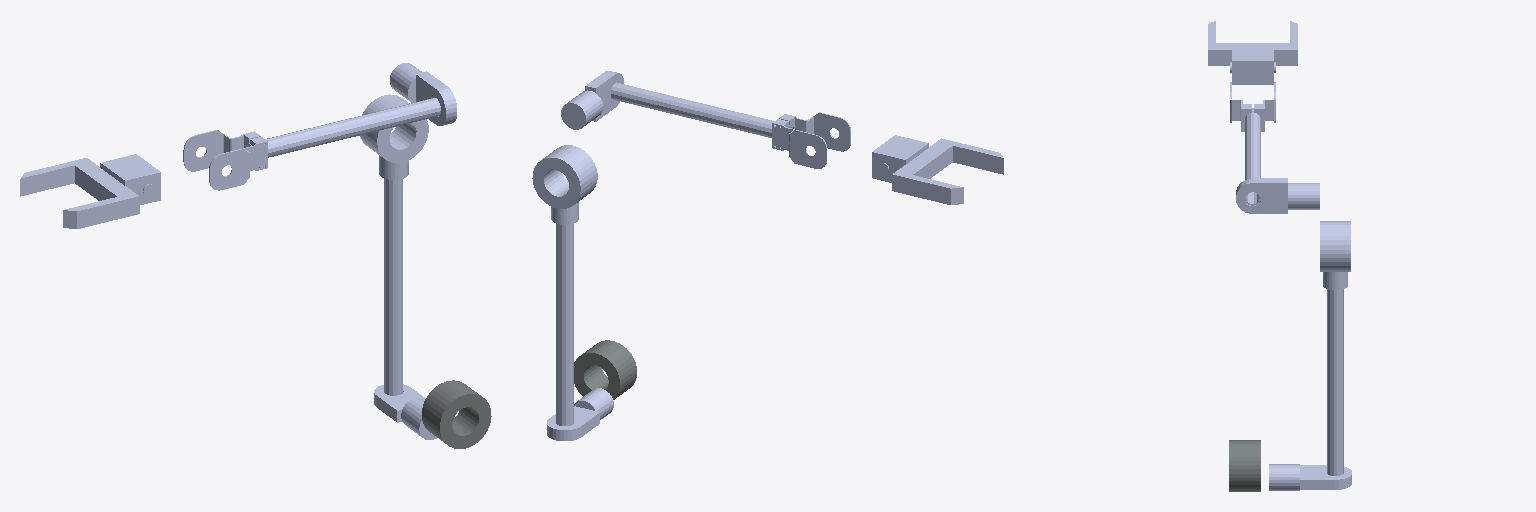
robot.urdf — robot_arm_urdf_complete:
<?xml version="1.0" encoding="utf-8"?>
<!-- This URDF was automatically created by SolidWorks to URDF Exporter! Originally created by [author] ([email redacted]) 
     Commit Version: 1.6.0-4-g7f85cfe  Build Version: 1.6.7995.38578
     For more information, please see http://wiki.ros.org/sw_urdf_exporter -->
<robot 
  name="robot_arm_urdf_complete">
  <link
    name="base_link">
    <inertial>
      <origin
        xyz="2.5327E-16 0.035188 -1.1102E-16"
        rpy="0 0 0" />
      <mass
        value="3" />
      <inertia
        ixx="0.0060784"
        ixy="1.8521E-17"
        ixz="-6.4669E-32"
        iyy="0.0087307"
        iyz="-9.2605E-18"
        izz="0.0060784" />
    </inertial>
    <visual>
      <origin
        xyz="0 0 0"
        rpy="0 0 0" />
      <geometry>
        <mesh
          filename="package://arm_ik/meshes/base_link.STL" />
      </geometry>
      <material
        name="">
        <color
          rgba="0.52941 0.54902 0.54902 1" />
      </material>
    </visual>
    <collision>
      <origin
        xyz="0 0 0"
        rpy="0 0 0" />
      <geometry>
        <mesh
          filename="package://arm_ik/meshes/base_link.STL" />
      </geometry>
    </collision>
  </link>
  <link
    name="link_1">
    <inertial>
      <origin
        xyz="2.142E-09 0.14365 0.6139"
        rpy="0 0 0" />
      <mass
        value="5.2706" />
      <inertia
        ixx="0.016945"
        ixy="5.3984E-09"
        ixz="1.7903E-09"
        iyy="0.01863"
        iyz="-4.1483E-17"
        izz="0.0077042" />
    </inertial>
    <visual>
      <origin
        xyz="0 0 0"
        rpy="0 0 0" />
      <geometry>
        <mesh
          filename="package://arm_ik/meshes/link_1.STL" />
      </geometry>
      <material
        name="">
        <color
          rgba="0.79608 0.82353 0.93725 1" />
      </material>
    </visual>
    <collision>
      <origin
        xyz="0 0 0"
        rpy="0 0 0" />
      <geometry>
        <mesh
          filename="package://arm_ik/meshes/link_1.STL" />
      </geometry>
    </collision>
  </link>
  <joint
    name="joint_1"
    type="revolute">
    <origin
      xyz="0 0 0"
      rpy="0 0 0" />
    <parent
      link="base_link" />
    <child
      link="link_1" />
    <axis
      xyz="0 -1 0" />
    <limit
      lower="-1.5707"
      upper="1.5707"
      effort="63"
      velocity="10" />
  </joint>
  <link
    name="link_2">
    <inertial>
      <origin
        xyz="-0.22922 -0.11307 3.3307E-16"
        rpy="0 0 0" />
      <mass
        value="4" />
      <inertia
        ixx="0.0014596"
        ixy="4.4067E-17"
        ixz="1.0177E-18"
        iyy="0.0077228"
        iyz="4.005E-18"
        izz="0.0086424" />
    </inertial>
    <visual>
      <origin
        xyz="0 0 0"
        rpy="0 0 0" />
      <geometry>
        <mesh
          filename="package://arm_ik/meshes/link_2.STL" />
      </geometry>
      <material
        name="">
        <color
          rgba="0.79608 0.82353 0.93725 1" />
      </material>
    </visual>
    <collision>
      <origin
        xyz="0 0 0"
        rpy="0 0 0" />
      <geometry>
        <mesh
          filename="package://arm_ik/meshes/link_2.STL" />
      </geometry>
    </collision>
  </link>
  <joint
    name="joint_2"
    type="revolute">
    <origin
      xyz="0 0.11456 0.69567"
      rpy="0 0 0" />
    <parent
      link="link_1" />
    <child
      link="link_2" />
    <axis
      xyz="0 1 0" />
    <limit
      lower="-1.60"
      upper="3.1416"
      effort="30"
      velocity="10" />
  </joint>
  <link
    name="link_3">
    <inertial>
      <origin
        xyz="-3.3307E-16 -0.0093503 5.5511E-16"
        rpy="0 0 0" />
      <mass
        value="0.44193" />
      <inertia
        ixx="0.0005806"
        ixy="6.0881E-20"
        ixz="1.552E-20"
        iyy="0.00049195"
        iyz="1.0972E-19"
        izz="0.00036194" />
    </inertial>
    <visual>
      <origin
        xyz="0 0 0"
        rpy="0 0 0" />
      <geometry>
        <mesh
          filename="package://arm_ik/meshes/link_3.STL" />
      </geometry>
      <material
        name="">
        <color
          rgba="0.79216 0.81961 0.93333 1" />
      </material>
    </visual>
    <collision>
      <origin
        xyz="0 0 0"
        rpy="0 0 0" />
      <geometry>
        <mesh
          filename="package://arm_ik/meshes/link_3.STL" />
      </geometry>
    </collision>
  </link>
  <joint
    name="joint_3"
    type="revolute">
    <origin
      xyz="-0.68187 -0.14975 0"
      rpy="3.1416 -1.5708 1.5708" />
    <parent
      link="link_2" />
    <child
      link="link_3" />
    <axis
      xyz="0 0 1" />
    <limit
      lower="-1.6"
      upper="1.6"
      effort="24"
      velocity="3" />
  </joint>
  <link
    name="link_4">
    <inertial>
      <origin
        xyz="-3.3307E-16 -0.054647 6.1409E-16"
        rpy="0 0 0" />
      <mass
        value="0.4756" />
      <inertia
        ixx="0.0032368"
        ixy="-2.7595E-18"
        ixz="2.3927E-18"
        iyy="0.0024386"
        iyz="3.9635E-20"
        izz="0.00091082" />
    </inertial>
    <visual>
      <origin
        xyz="0 0 0"
        rpy="0 0 0" />
      <geometry>
        <mesh
          filename="package://arm_ik/meshes/link_4.STL" />
      </geometry>
      <material
        name="">
        <color
          rgba="0.79216 0.81961 0.93333 1" />
      </material>
    </visual>
    <collision>
      <origin
        xyz="0 0 0"
        rpy="0 0 0" />
      <geometry>
        <mesh
          filename="package://arm_ik/meshes/link_4.STL" />
      </geometry>
    </collision>
  </link>
  <joint
    name="joint_4"
    type="revolute">
    <origin
      xyz="0 -0.0381 0"
      rpy="0 0 0" />
    <parent
      link="link_3" />
    <child
      link="link_4" />
    <axis
      xyz="0 -1 0" />
    <limit
      lower="-3.14"
      upper="3.14"
      effort="0"
      velocity="0" />
  </joint>

</robot>

--- Facts derived from the render (not from the file) ---
The picture shows the robot from 3 angles, left to right: view 1: azimuth 30°, elevation 25°; view 2: azimuth 150°, elevation 25°; view 3: azimuth 270°, elevation 25°; orthographic projection.
Robot: robot_arm_urdf_complete — 5 links, 4 joints (4 revolute); root link base_link; default pose: all joints at 0.
Visible links, largest first — view 1: link_2, link_1, link_4, base_link, link_3; view 2: link_1, link_2, link_4, base_link, link_3; view 3: link_1, link_2, link_3, base_link, link_4.
Boxes of the visible links, x1,y1,x2,y2 form: link_2: (183, 63, 456, 190); link_1: (360, 94, 436, 439); link_4: (20, 158, 139, 228); base_link: (422, 380, 491, 448); link_3: (100, 154, 160, 204); link_1: (532, 145, 613, 440); link_2: (561, 71, 850, 168); link_4: (892, 138, 1003, 204); base_link: (574, 340, 636, 399); link_3: (872, 135, 928, 182); link_1: (1269, 221, 1351, 490); link_2: (1230, 82, 1319, 213); link_3: (1230, 46, 1275, 84); base_link: (1229, 440, 1260, 491); link_4: (1208, 21, 1297, 65).
Size in the robot's own frame: 0.9706 by 0.3246 by 0.7637 metres.
Meshes: 5 distinct files referenced, 5 mesh visuals loaded (5 binary STL).